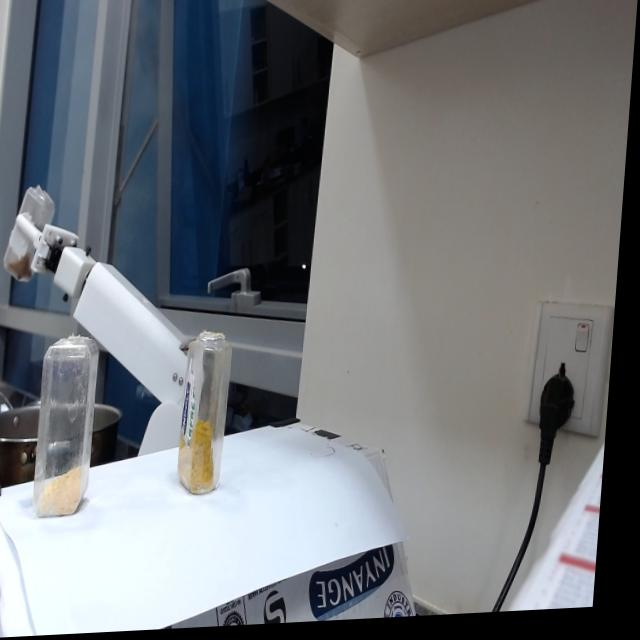cooking_pot: (0, 405, 48, 539)
curry_powder: (183, 420, 227, 499)
garlic_powder: (43, 463, 99, 521)
maggie_open: (6, 242, 39, 284)
